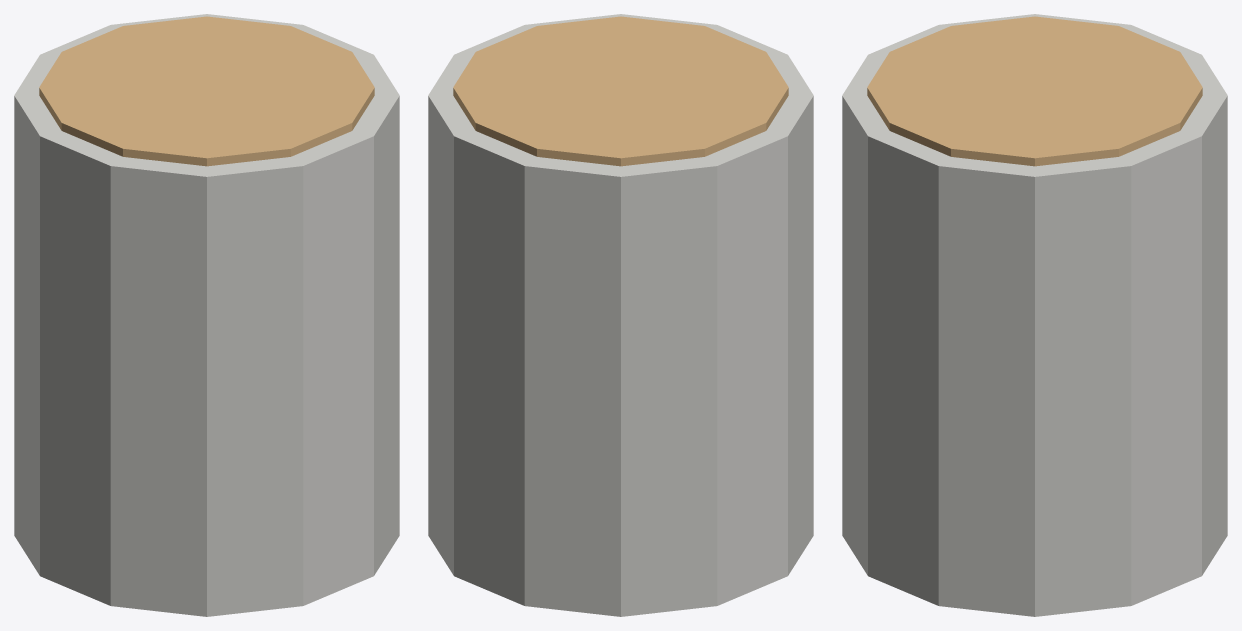
File: cup.glb
The picture shows the model from 3 angles, left to right: view 1: azimuth 30°, elevation 25°; view 2: azimuth 150°, elevation 25°; view 3: azimuth 270°, elevation 25°; orthographic projection.
Visible parts, largest first — view 1: cup; view 2: cup; view 3: cup.
Part boxes in pixels (<box>): cup: <box>14,14,399,616</box>; cup: <box>428,14,813,616</box>; cup: <box>842,14,1227,616</box>.
Bounding box in the file's own units: 0.054 × 0.0693 × 0.054.
